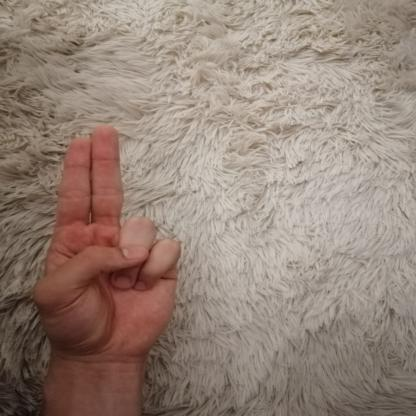TA: (13, 115, 202, 370)
